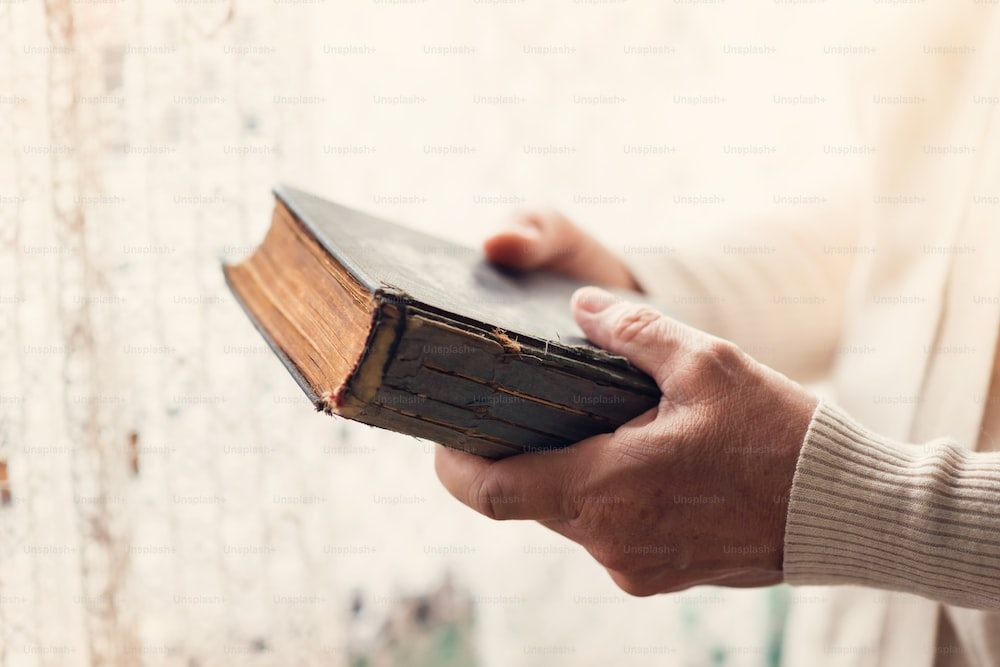book: (221, 173, 711, 480)
